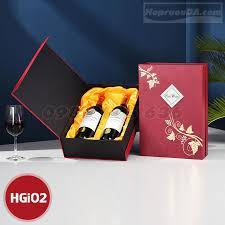box: (12, 36, 148, 162), (138, 62, 209, 161)
